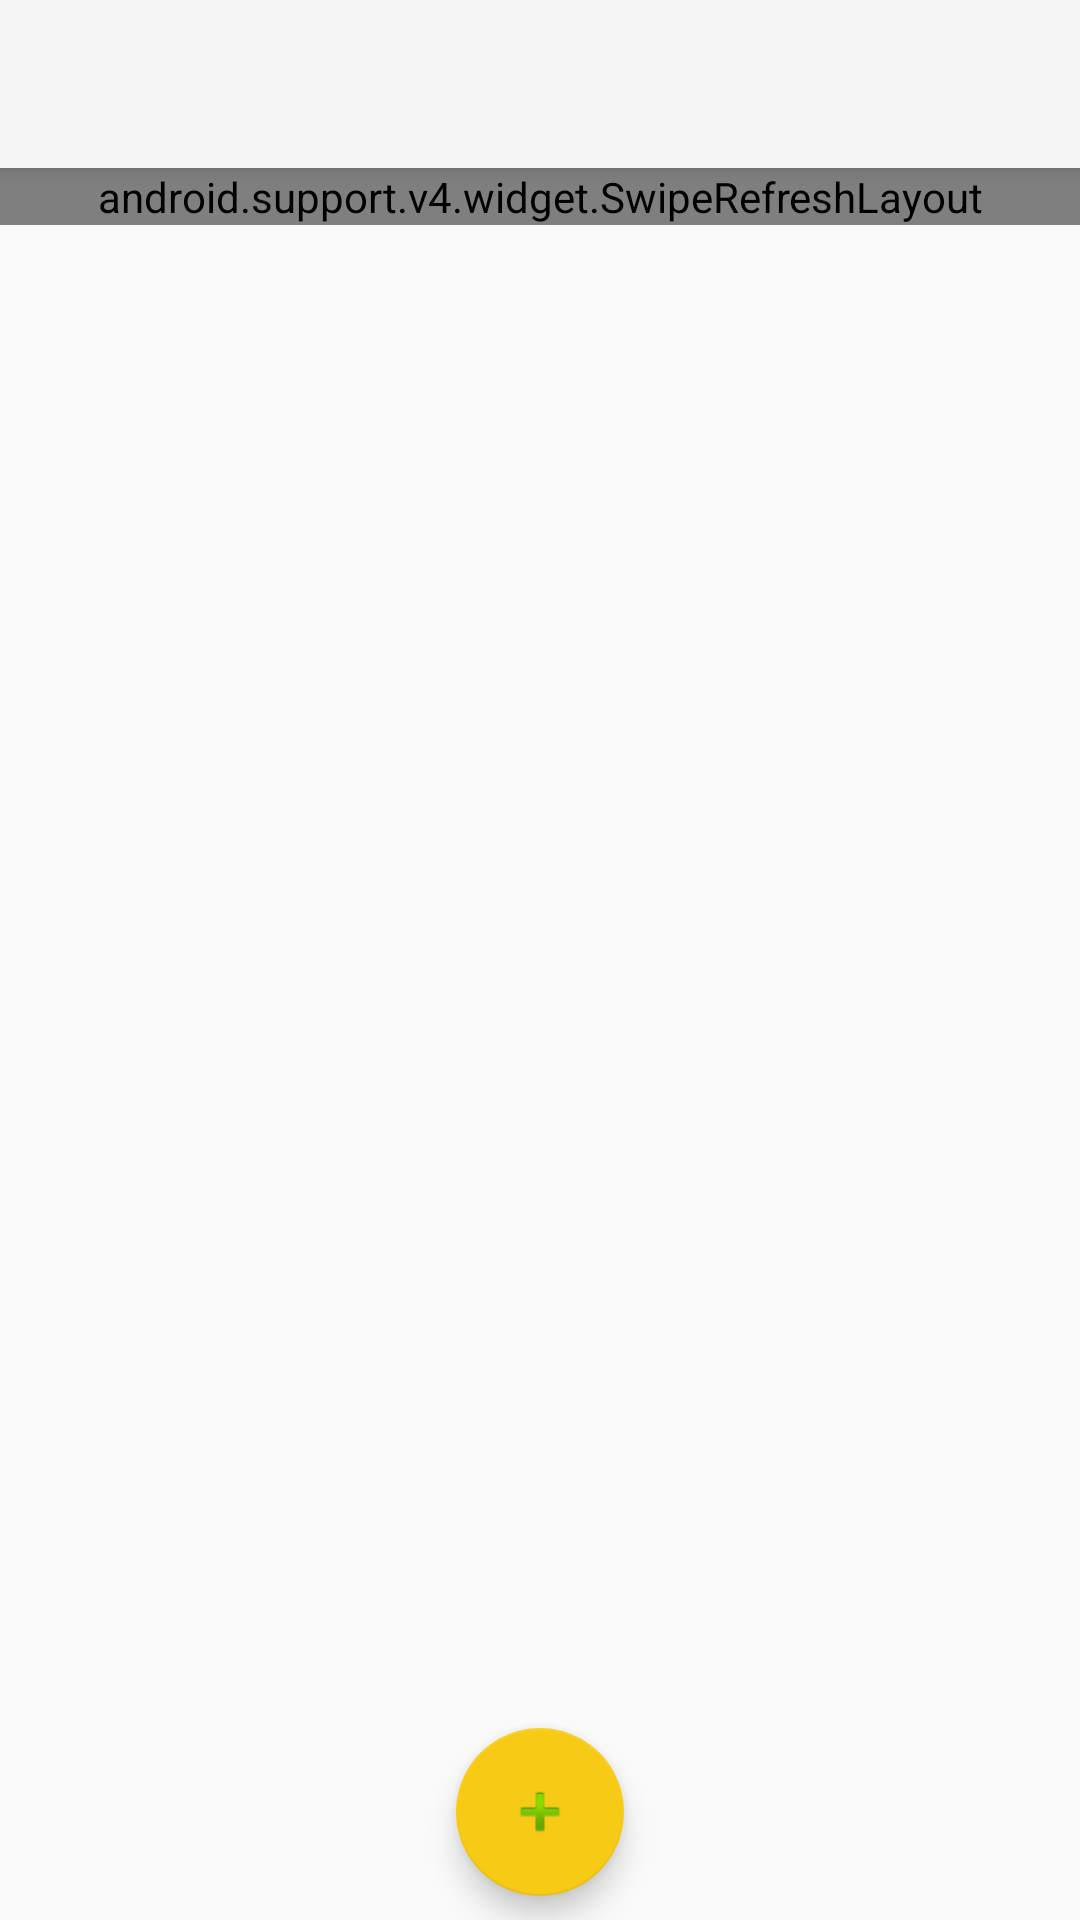

Icons on this 1080x1920 Android screen, each with the point to tap as (x,y):
add: (540,1812)
